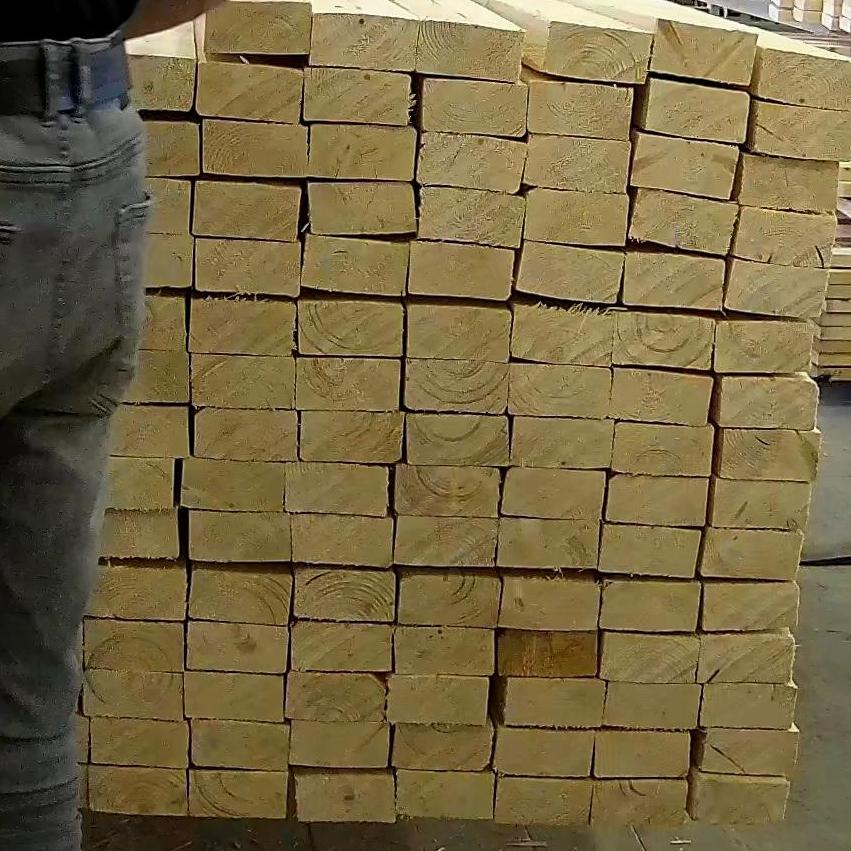Wood-Plank: (523, 70, 635, 140), (635, 76, 752, 142), (655, 15, 759, 89), (633, 131, 741, 199), (630, 190, 740, 254), (87, 51, 195, 115), (195, 60, 303, 123), (417, 131, 526, 193), (518, 241, 624, 304), (417, 20, 525, 81), (420, 77, 529, 137), (192, 180, 301, 240), (420, 186, 526, 247), (189, 565, 292, 627), (87, 119, 199, 176), (301, 236, 409, 295), (74, 403, 189, 458), (308, 123, 417, 181), (408, 242, 515, 301), (545, 21, 652, 80), (725, 258, 830, 318), (188, 298, 296, 356), (734, 207, 838, 267), (408, 303, 512, 363), (749, 99, 851, 160), (310, 14, 419, 71), (305, 67, 412, 125), (513, 303, 613, 365), (623, 251, 726, 311), (524, 135, 632, 192), (298, 299, 404, 357), (203, 119, 308, 177), (715, 373, 820, 431), (87, 175, 190, 234), (85, 231, 192, 287), (525, 188, 630, 245), (195, 240, 300, 297), (738, 153, 839, 212), (79, 349, 189, 403), (399, 571, 501, 629), (611, 369, 714, 426), (84, 291, 184, 349), (204, 0, 311, 54), (613, 313, 715, 369), (82, 561, 182, 618), (180, 458, 285, 512), (308, 183, 416, 235), (193, 408, 297, 462), (511, 363, 611, 419), (612, 422, 715, 476), (689, 772, 792, 826), (191, 356, 295, 409), (701, 528, 805, 581), (499, 577, 601, 631), (718, 431, 823, 483), (407, 414, 510, 467), (295, 569, 396, 623), (600, 525, 701, 579), (83, 618, 182, 673), (696, 726, 800, 778), (395, 466, 501, 517), (716, 320, 816, 374), (502, 468, 605, 520), (286, 463, 387, 516), (407, 360, 508, 413), (189, 511, 291, 563), (297, 359, 399, 411), (606, 475, 709, 526), (292, 515, 393, 567), (295, 772, 396, 824), (601, 581, 702, 633), (188, 622, 287, 675), (291, 622, 393, 673), (601, 633, 701, 685), (78, 509, 179, 560), (387, 676, 488, 727), (397, 516, 498, 567), (87, 766, 187, 817), (511, 419, 613, 469), (503, 679, 607, 728), (76, 459, 174, 511), (301, 413, 402, 463), (285, 673, 386, 723), (494, 728, 595, 778), (184, 673, 284, 723), (699, 633, 797, 684), (82, 672, 183, 721), (711, 481, 812, 530), (392, 724, 492, 773), (703, 582, 801, 632), (760, 50, 847, 106), (90, 721, 188, 770), (499, 521, 599, 569), (191, 723, 288, 772), (189, 773, 288, 821), (397, 773, 495, 821), (499, 631, 597, 679), (701, 683, 799, 731), (396, 630, 495, 677), (495, 781, 594, 828), (289, 724, 390, 770), (592, 780, 689, 827), (604, 685, 703, 731), (595, 734, 691, 780)
